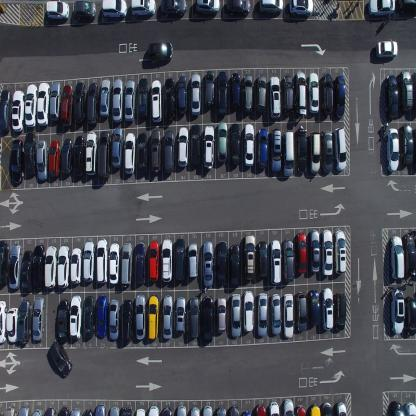car: (49, 340, 72, 378), (384, 74, 399, 120), (390, 288, 405, 334), (97, 130, 111, 179), (398, 70, 413, 113), (10, 138, 24, 184), (44, 244, 58, 290), (17, 298, 31, 344), (32, 243, 45, 292), (243, 233, 256, 282), (36, 81, 50, 126), (385, 127, 399, 172), (121, 241, 134, 289), (69, 292, 82, 340), (320, 229, 333, 277), (400, 122, 414, 166), (390, 234, 404, 278), (215, 239, 228, 286), (161, 238, 174, 284), (174, 238, 187, 284), (333, 126, 346, 172), (308, 129, 321, 175), (32, 296, 45, 342), (269, 238, 282, 284), (402, 234, 416, 276), (202, 125, 215, 170), (9, 244, 22, 289), (333, 229, 346, 274), (121, 297, 133, 345), (294, 70, 307, 114), (60, 83, 73, 127), (23, 131, 36, 175), (57, 245, 70, 289), (282, 130, 294, 177), (57, 297, 69, 344), (189, 124, 202, 167), (242, 290, 255, 333), (161, 295, 173, 341), (150, 128, 162, 174), (112, 78, 124, 124), (85, 130, 97, 176), (95, 294, 107, 340), (83, 294, 95, 340), (230, 292, 242, 338), (282, 292, 294, 338), (45, 0, 70, 22), (321, 72, 334, 114), (11, 90, 24, 132), (216, 71, 228, 116), (334, 74, 346, 119), (86, 81, 98, 126), (25, 82, 37, 127), (0, 89, 12, 134), (282, 238, 294, 283), (202, 295, 213, 344), (73, 82, 86, 123), (295, 291, 308, 332), (135, 293, 146, 341), (269, 75, 281, 119), (308, 71, 320, 115), (321, 130, 333, 174), (270, 127, 281, 175), (124, 78, 136, 122), (108, 298, 120, 342), (147, 42, 173, 62), (202, 240, 213, 287), (296, 128, 307, 175), (188, 295, 200, 338), (243, 123, 255, 166), (256, 127, 268, 170), (112, 126, 124, 169), (270, 292, 282, 335), (101, 0, 128, 19), (366, 0, 396, 17), (308, 288, 321, 327), (148, 294, 159, 340), (229, 243, 240, 289), (177, 126, 189, 168), (164, 78, 176, 120), (282, 74, 294, 116), (124, 132, 136, 174), (36, 139, 48, 181), (108, 242, 120, 284), (82, 240, 94, 282), (295, 232, 307, 274), (257, 292, 268, 337), (255, 73, 267, 114), (404, 295, 416, 336), (160, 0, 187, 18), (190, 72, 201, 116), (135, 241, 146, 285), (148, 239, 159, 283), (151, 79, 162, 123), (138, 77, 149, 121), (137, 131, 148, 175), (73, 134, 84, 178), (322, 286, 333, 330), (309, 230, 320, 274), (73, 0, 96, 21), (99, 78, 111, 118), (49, 81, 61, 121), (48, 138, 60, 178), (334, 291, 346, 331), (21, 249, 32, 292), (61, 137, 73, 176), (130, 0, 156, 18), (186, 242, 198, 280), (203, 70, 215, 108), (70, 248, 82, 286), (6, 305, 18, 343), (242, 73, 253, 114), (164, 129, 174, 174), (175, 296, 186, 336), (217, 120, 227, 164), (376, 38, 398, 58), (230, 123, 240, 166), (257, 240, 268, 279), (289, 0, 314, 17), (0, 239, 9, 286), (216, 296, 227, 334), (176, 74, 186, 114), (258, 0, 284, 15), (195, 0, 220, 15), (231, 72, 240, 112), (226, 0, 250, 15), (0, 298, 7, 346), (396, 0, 415, 14), (390, 400, 405, 416), (283, 398, 294, 416), (403, 402, 416, 416), (335, 402, 348, 415), (2, 404, 17, 415), (412, 69, 416, 110), (321, 402, 333, 415), (95, 402, 107, 415), (268, 402, 279, 416), (308, 404, 321, 415), (255, 403, 266, 415), (147, 404, 159, 415), (44, 405, 57, 415), (17, 405, 30, 415), (229, 404, 240, 415), (202, 404, 213, 415), (294, 405, 306, 415), (58, 405, 70, 415), (176, 405, 187, 415), (161, 405, 172, 415), (109, 405, 120, 415), (70, 405, 81, 415), (190, 405, 200, 415), (136, 405, 146, 415), (122, 406, 132, 416), (217, 405, 226, 415), (31, 408, 43, 415), (83, 408, 94, 415), (241, 410, 252, 416)
